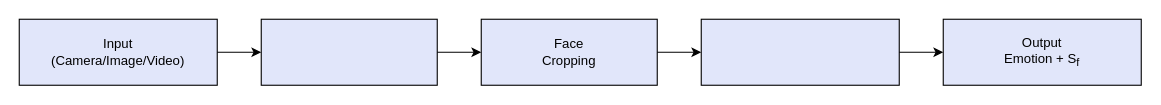
This 1161x105 diagram has some shape labels left out. The shapes that lost their labels are listed below. From the top down, each one's box as (x1, y1, x2, y2) in pixels, then its label:
(260, 18, 437, 85): YOLO Face Detection
(700, 18, 899, 85): Emotion Classification (7 Classes)
